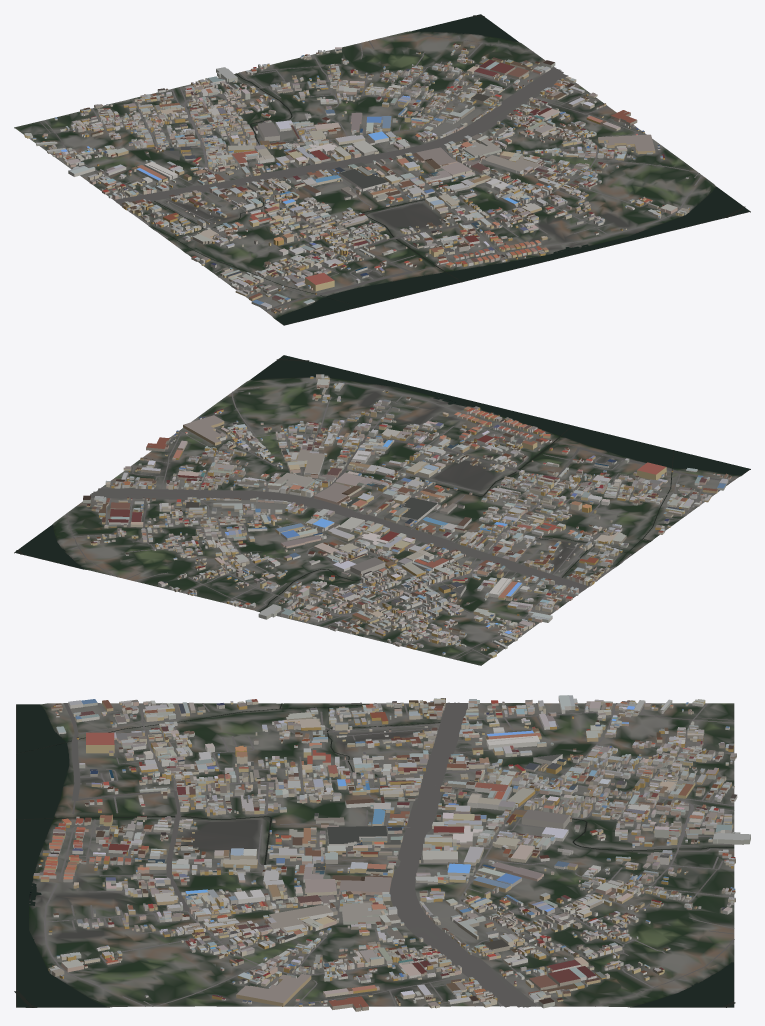
3 renders of one model, top to bottom at view 1: azimuth 30°, elevation 25°; view 2: azimuth 150°, elevation 25°; view 3: azimuth 270°, elevation 25°, orthographic. The views are drawn at different scales.
Visible parts, largest first — view 1: ground, buildings, roads, water; view 2: ground, buildings, roads, water; view 3: ground, buildings, roads, water.
Boxes of the visible parts, x1,y1,x2,y2 form: ground: (14, 16, 750, 325); buildings: (24, 43, 689, 313); roads: (32, 36, 702, 311); water: (152, 14, 749, 324); ground: (14, 358, 750, 665); buildings: (83, 374, 731, 658); roads: (66, 381, 732, 659); water: (15, 355, 749, 611); ground: (16, 703, 734, 1007); buildings: (33, 695, 750, 1011); roads: (44, 702, 734, 1007); water: (14, 703, 735, 1007).
Size of the model in its own units: 1443 by 23.84 by 1437.
